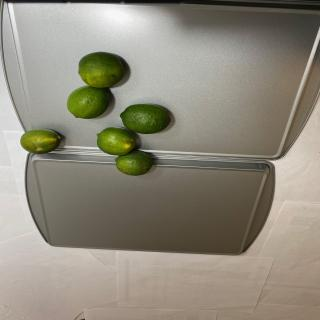Lemon: (78, 51, 124, 88), (120, 104, 171, 134), (66, 85, 110, 119), (96, 126, 136, 156), (20, 129, 61, 154), (114, 150, 153, 176)
